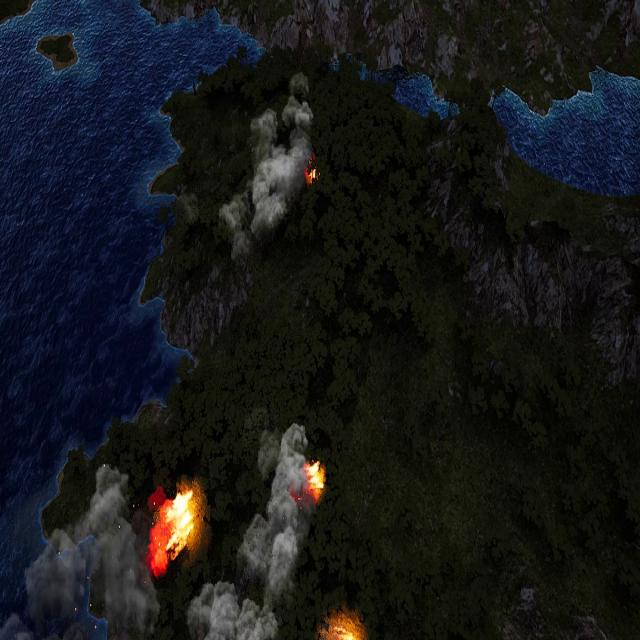fire: (148, 489, 199, 578), (305, 460, 326, 500), (328, 620, 364, 640), (306, 162, 320, 186)
smoke: (184, 417, 325, 639), (3, 462, 164, 639), (226, 71, 318, 263)
